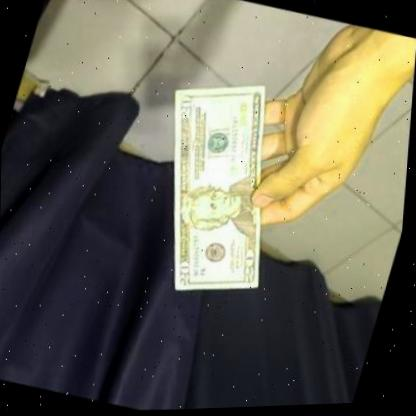dollar_front: (121, 60, 316, 314)
